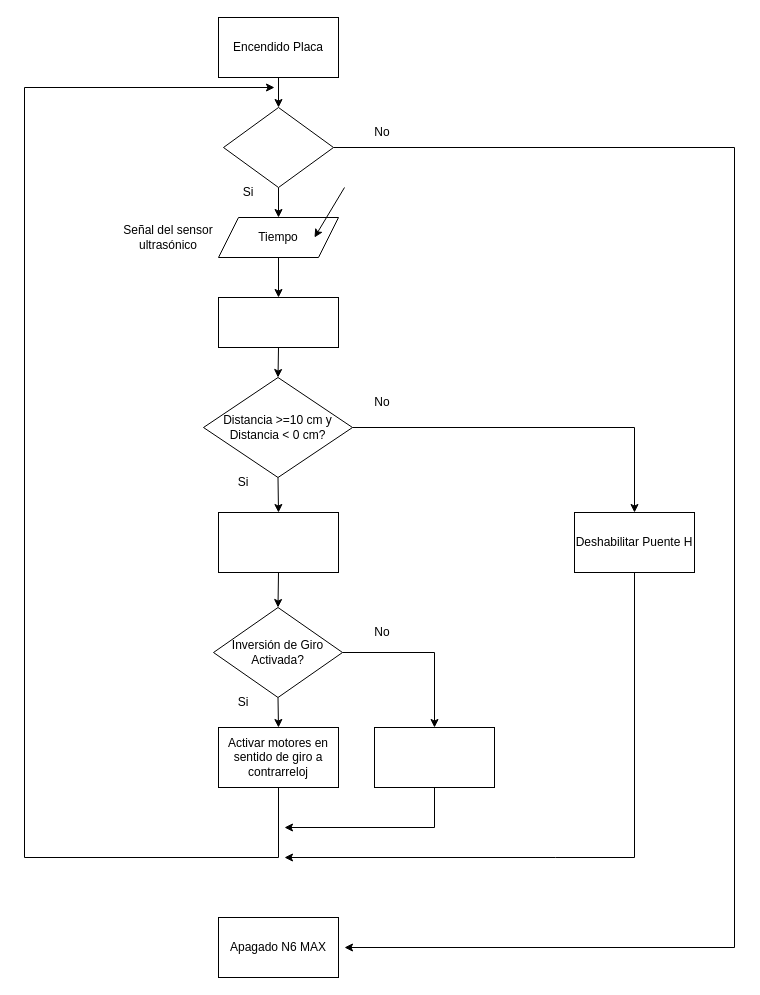
Image size: 760x995. Some labels were removed from this diagram. Each missing label, with the centre of its shape:
"Activar motores en sentido de giro a favor del reloj" belongs at (x=434, y=757).
"Distancia = Tiempo/58" belongs at (x=278, y=322).
"Encendido?" belongs at (x=278, y=147).
"Hablitar Puente H" belongs at (x=278, y=542).
